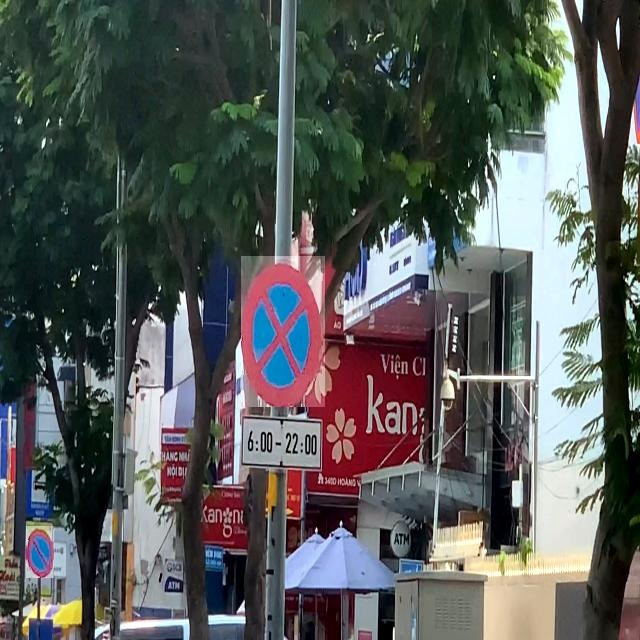bien_cam: (241, 256, 325, 407), (26, 526, 54, 578)
